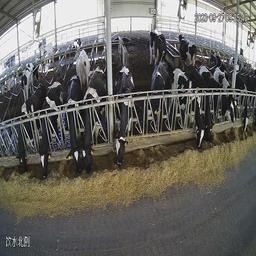cow: (169, 66, 203, 164), (16, 80, 46, 183), (112, 62, 137, 185), (39, 78, 62, 191), (187, 59, 215, 151), (84, 66, 106, 178), (64, 72, 84, 182), (141, 54, 167, 138), (212, 64, 238, 132), (234, 70, 250, 141), (19, 54, 41, 103), (177, 27, 198, 67), (39, 33, 55, 73), (75, 45, 89, 87), (1, 70, 18, 98), (156, 29, 167, 68), (147, 25, 157, 64), (72, 32, 81, 57)
